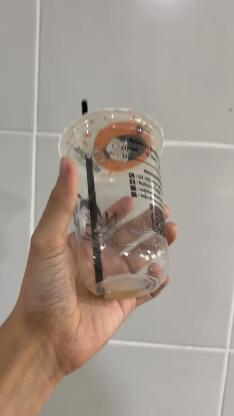Plastic Cup: (56, 108, 172, 302)
